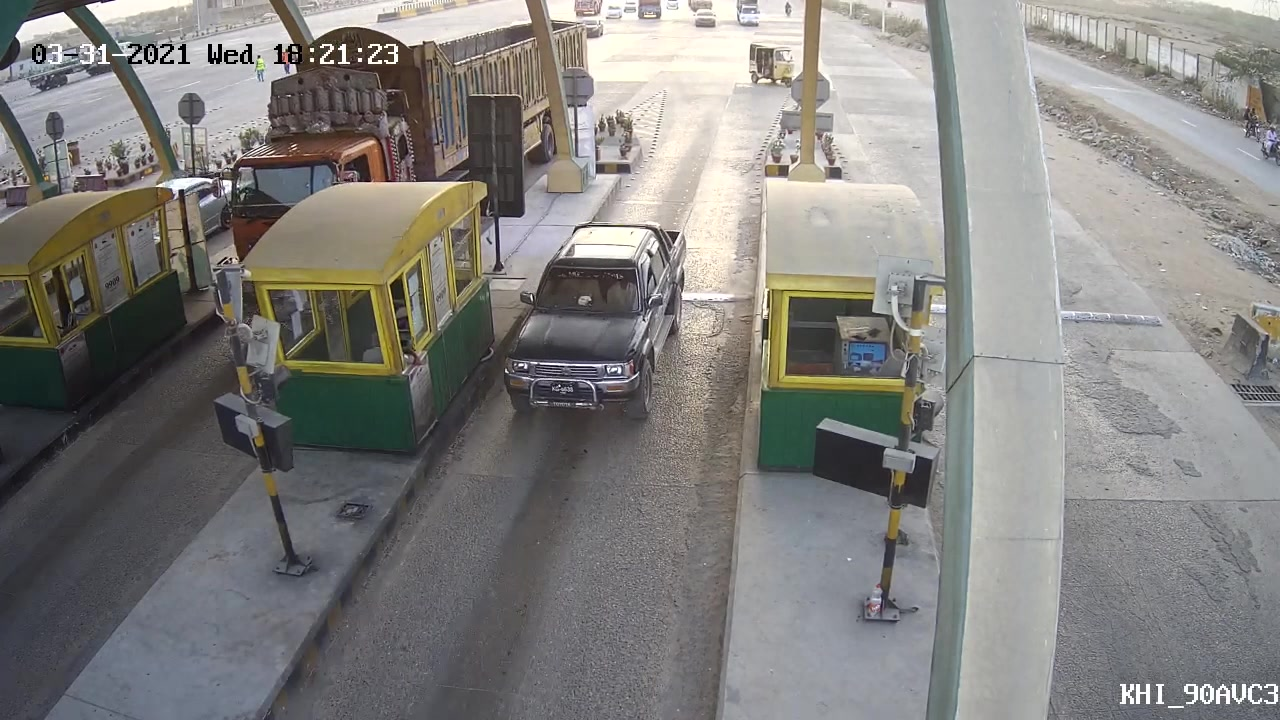F1: (503, 218, 693, 425)
